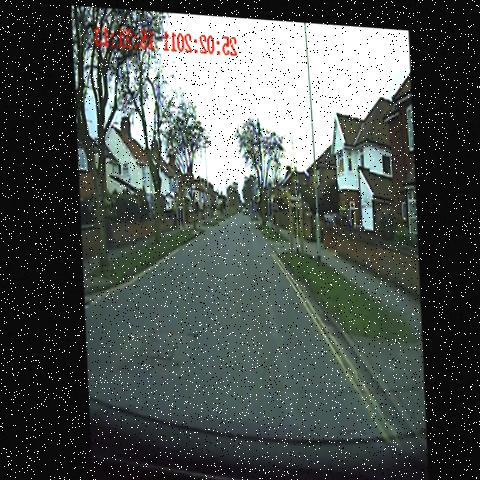pothole: (103, 317, 203, 390)
